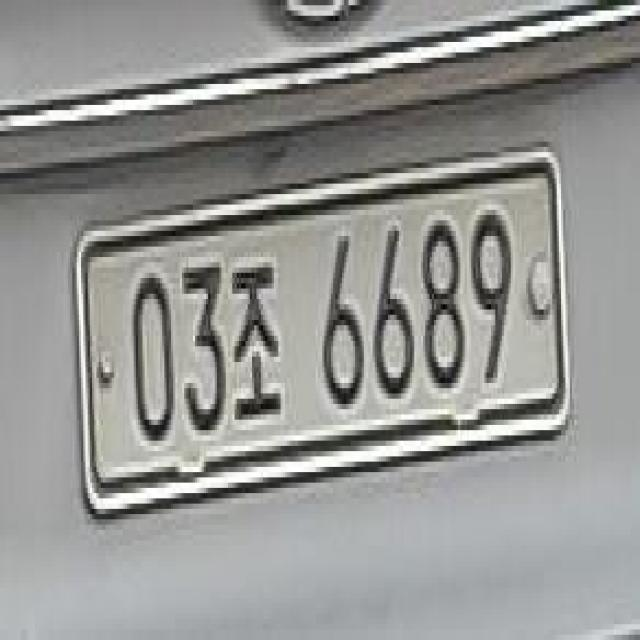illegal_plate: (75, 143, 568, 516)
